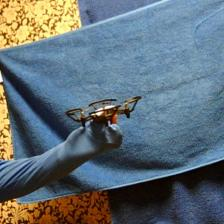drone: (65, 95, 142, 129)
